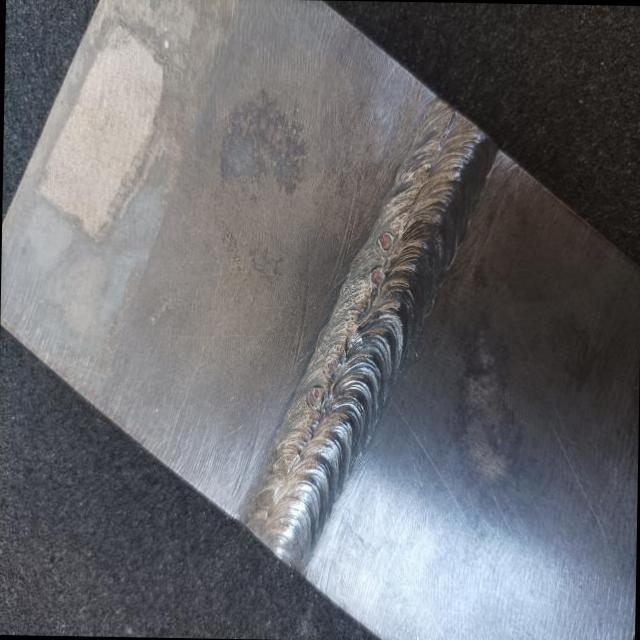defect: (373, 229, 395, 254), (366, 265, 386, 289), (305, 384, 323, 410), (324, 354, 341, 377), (344, 308, 359, 327)
